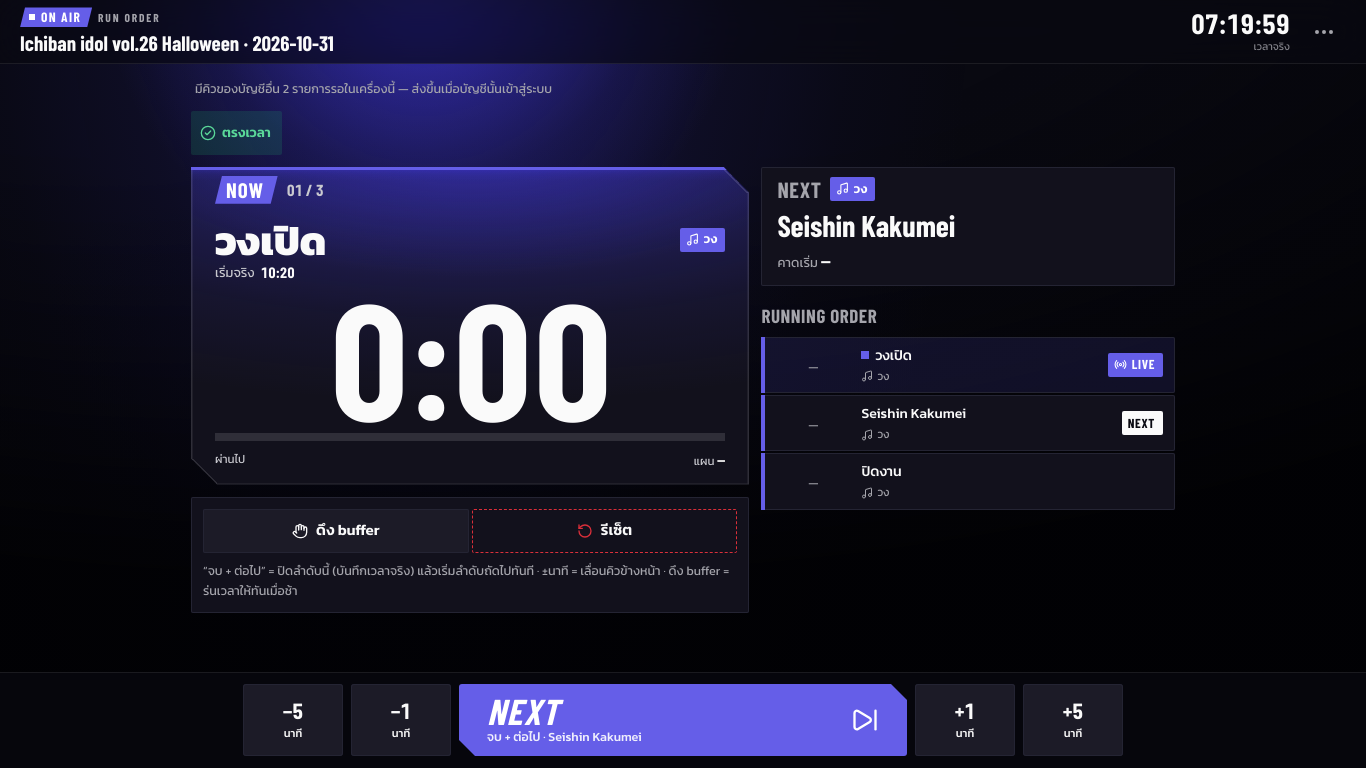
Scenario: EventLiveCaller — another account's queued presses › a press on its rows still folds into it and replays under this account
Expected: the text with test id "runseq-foreign-queued" is shown, [195,79,552,98]
Click the button "Next จบ + ต่อไป · Seishin Kakumei".
click(523, 711)  # box [459,684,907,756]
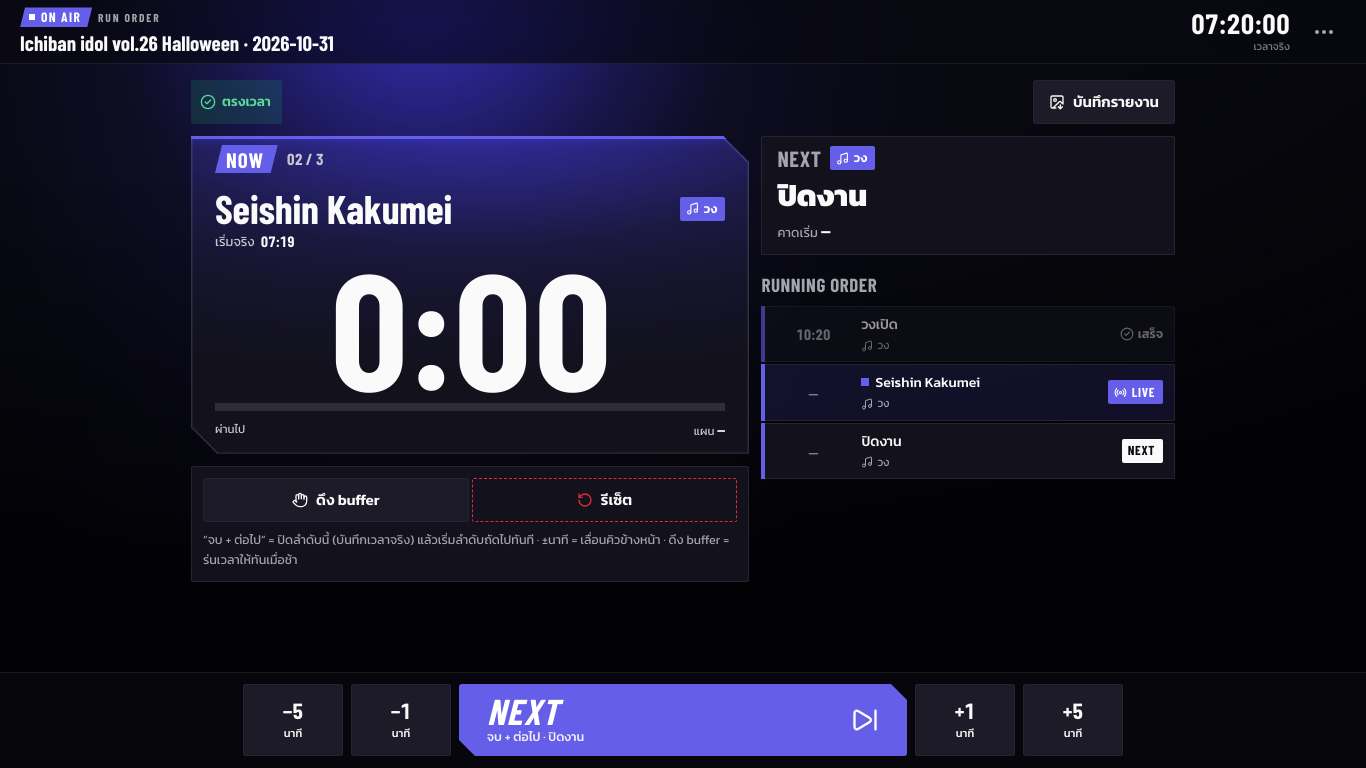
Expected: the text with test id "runseq-foreign-queued" is gone
Expected: the heading "Seishin Kakumei" is shown, [215,184,452,232]
